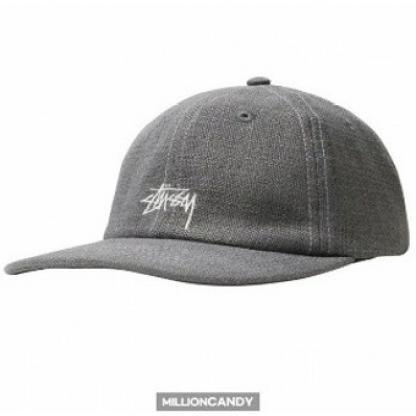cap: (6, 74, 411, 297)
